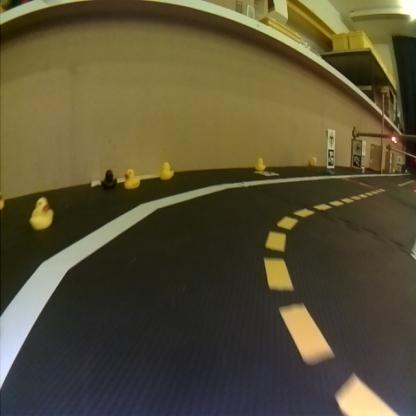Duckie: (30, 196, 54, 229), (124, 168, 140, 188), (102, 169, 117, 188), (160, 161, 174, 179), (256, 158, 266, 170), (312, 156, 318, 165)
Intersection sign: (329, 130, 335, 146), (355, 142, 361, 152)
QR code: (258, 170, 280, 177), (329, 150, 335, 166), (354, 154, 362, 165)
Traffic light: (394, 136, 398, 141)
